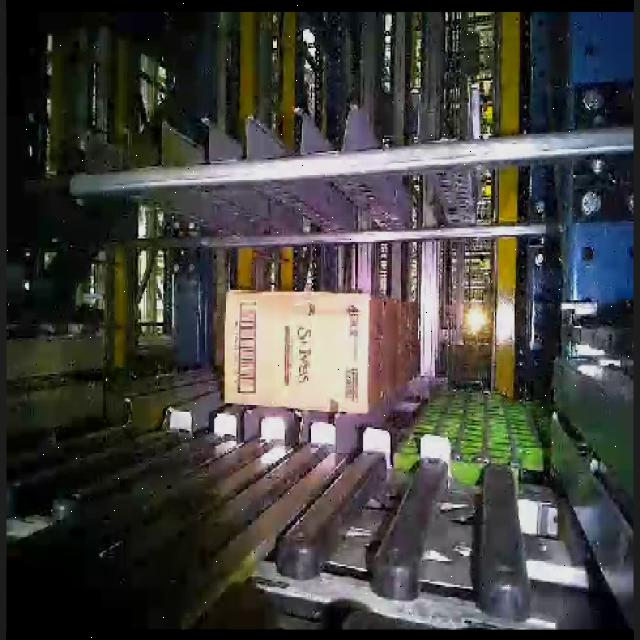box: (223, 290, 372, 417)
